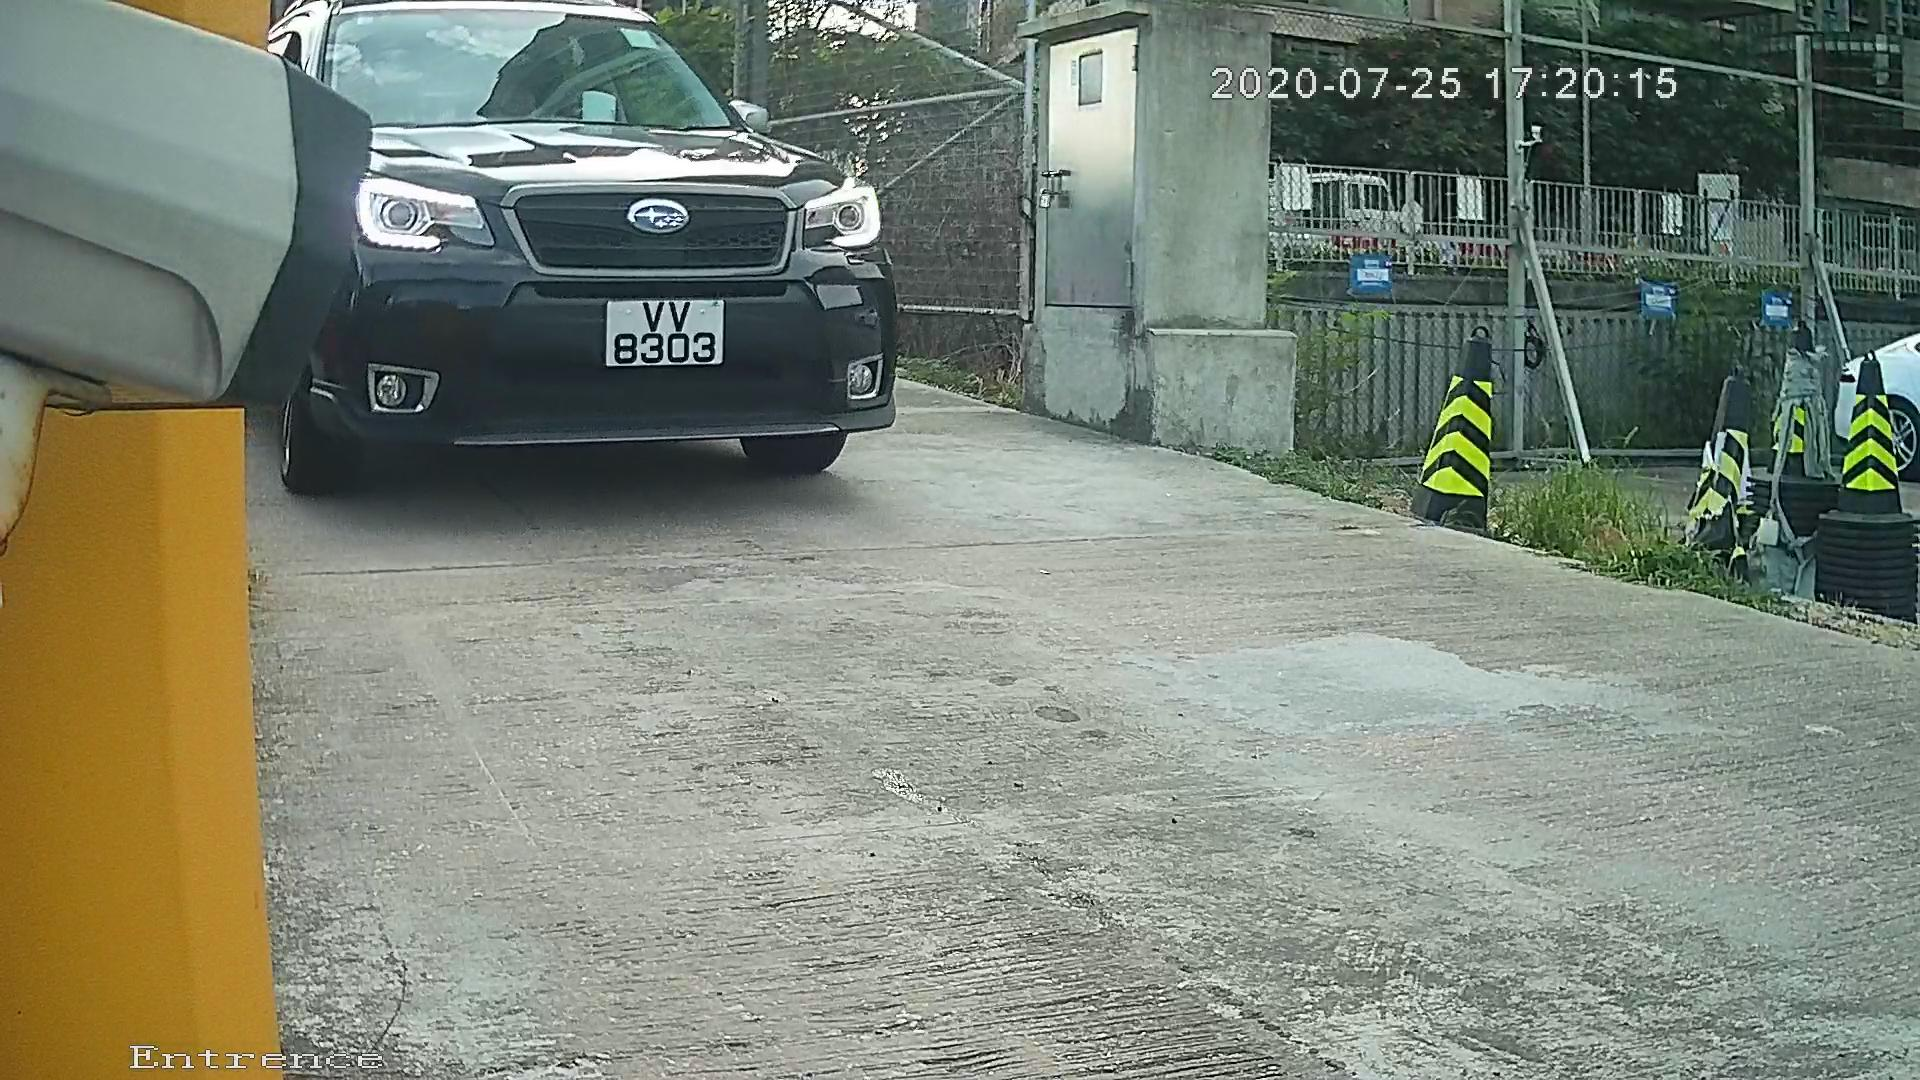Car: (215, 15, 961, 492)
License Plate: (583, 285, 738, 386)
